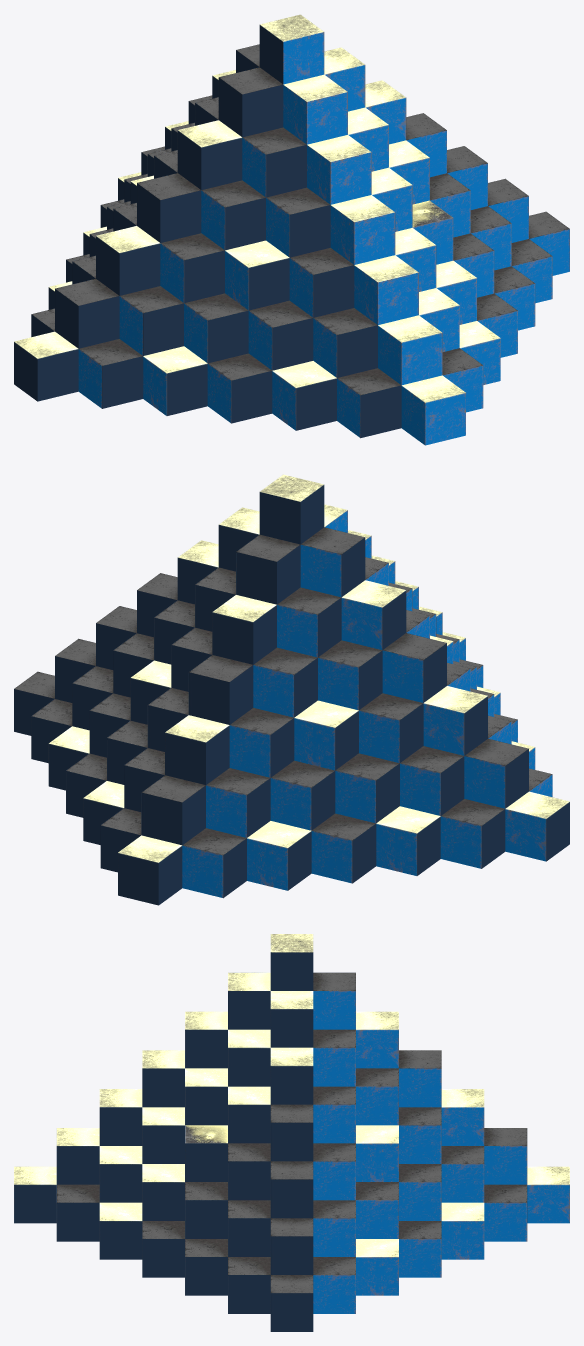
The model's file is qcube.gltf.
3 renders of one model, top to bottom at view 1: azimuth 30°, elevation 25°; view 2: azimuth 150°, elevation 25°; view 3: azimuth 270°, elevation 25°, orthographic. The views are drawn at different scales.
Parts seen in each view (by area): view 1: defaultMaterial.011, defaultMaterial.012, defaultMaterial.010; view 2: defaultMaterial.011, defaultMaterial.012; view 3: defaultMaterial.011, defaultMaterial.012, defaultMaterial.010.
Boxes of the visible parts, left/top/right/bottom form: defaultMaterial.011: left=31, top=44, right=569, bottom=445; defaultMaterial.012: left=14, top=14, right=500, bottom=430; defaultMaterial.010: left=412, top=200, right=453, bottom=264; defaultMaterial.011: left=14, top=527, right=552, bottom=898; defaultMaterial.012: left=48, top=474, right=569, bottom=905; defaultMaterial.011: left=14, top=972, right=527, bottom=1331; defaultMaterial.012: left=99, top=934, right=569, bottom=1295; defaultMaterial.010: left=185, top=1125, right=227, bottom=1181.
Bounding box in the file's own units: 8.1 × 4.36 × 8.1.
Materials: 1 (1 with a texture image).
